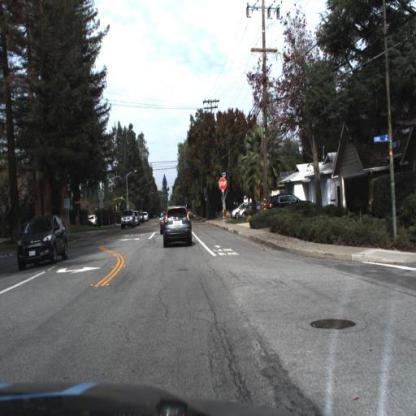car: (16, 212, 69, 272), (162, 204, 195, 249), (264, 190, 310, 212), (236, 199, 262, 219), (118, 208, 136, 232)
